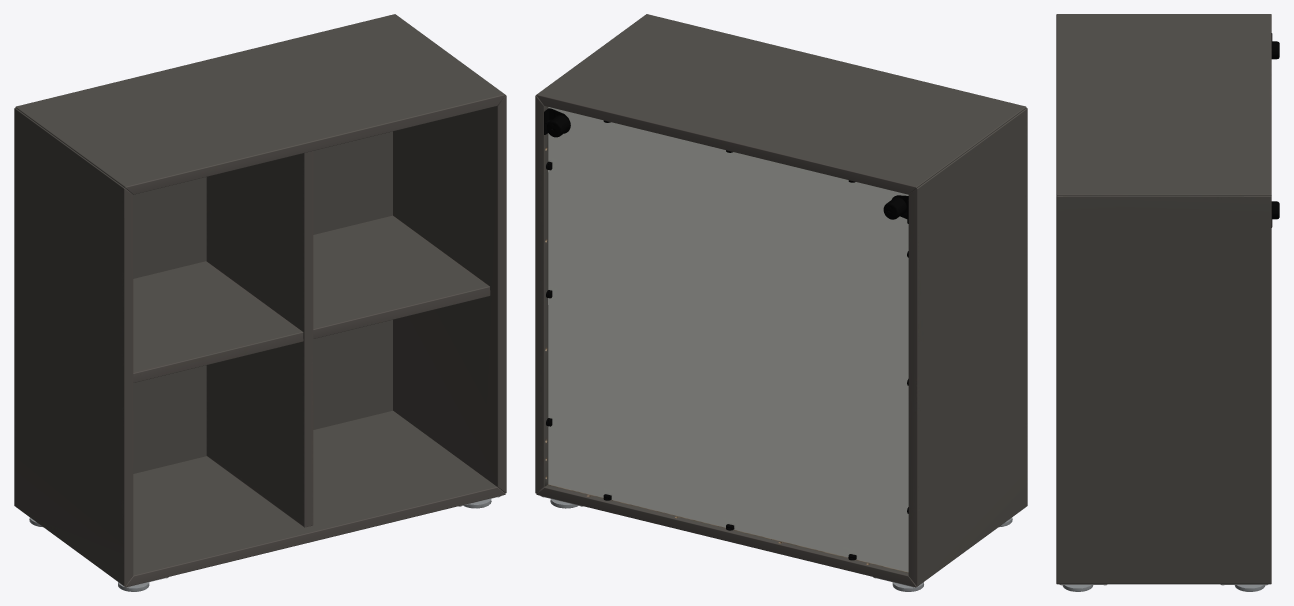
File: 47 - EKET Cabinet combination with feet - dark grey 70x35x72 cm(3).glb
3 views of the same model, side by side, from view 1: azimuth 30°, elevation 25°; view 2: azimuth 150°, elevation 25°; view 3: azimuth 270°, elevation 25° (orthographic). The views are drawn at different scales.
Visible parts, largest first — view 1: Mesh_0; view 2: Mesh_0; view 3: Mesh_0.
Part boxes in pixels (x1=…): Mesh_0: x1=14, y1=14, x2=506, y2=591; Mesh_0: x1=535, y1=14, x2=1027, y2=591; Mesh_0: x1=1056, y1=14, x2=1279, y2=591.
Size of the model in its own units: 0.7 by 0.719 by 0.363.
Materials: 1 (1 with a texture image).
